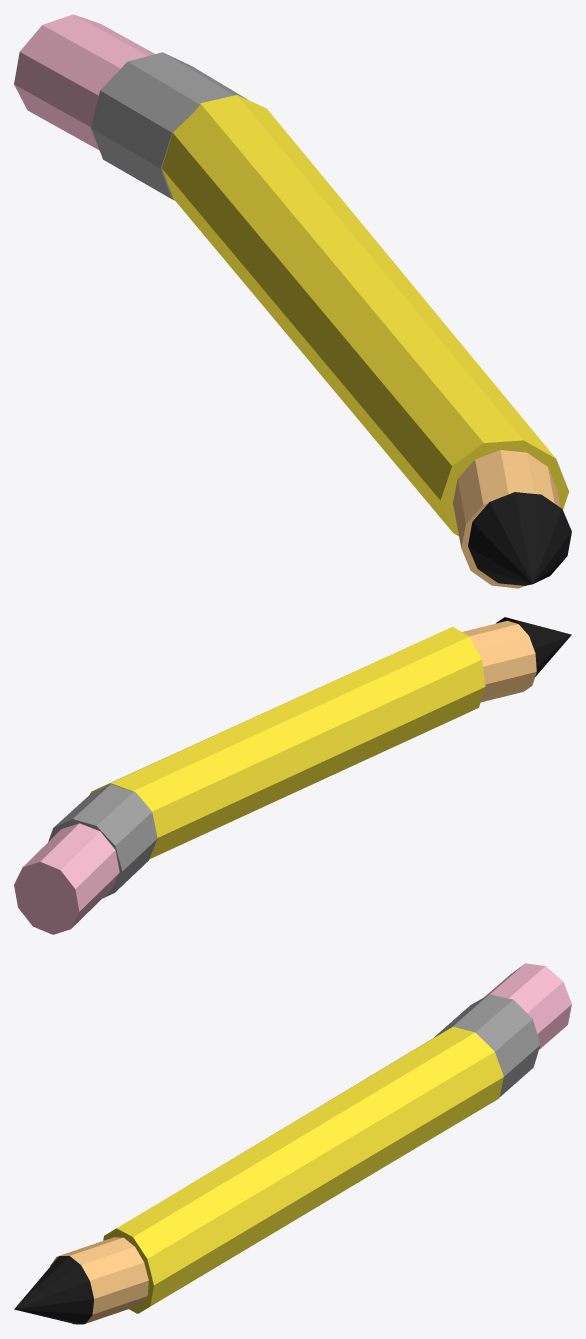
The model's file is pencil.fbx.
The picture shows the model from 3 angles, top to bottom: view 1: azimuth 30°, elevation 25°; view 2: azimuth 150°, elevation 25°; view 3: azimuth 330°, elevation 25°; orthographic projection. The views are drawn at different scales.
Visible parts, largest first — view 1: group_748217717, group_649866447, group_1645869376, mesh_1722161289, mesh_663012913; view 2: group_748217717, group_1645869376, group_649866447, mesh_663012913, mesh_1722161289; view 3: group_748217717, group_649866447, mesh_663012913, group_1645869376, mesh_1722161289.
Part boxes in pixels (box(x1,y1,x2,y2)): group_748217717: box(162, 95, 569, 536); group_649866447: box(91, 52, 247, 200); group_1645869376: box(14, 14, 154, 150); mesh_1722161289: box(468, 492, 571, 585); mesh_663012913: box(453, 450, 560, 588); group_748217717: box(90, 626, 485, 859); group_1645869376: box(14, 823, 119, 934); group_649866447: box(48, 784, 157, 898); mesh_663012913: box(462, 620, 536, 702); mesh_1722161289: box(496, 617, 571, 676); group_748217717: box(103, 1026, 503, 1313); group_649866447: box(434, 994, 540, 1097); mesh_663012913: box(50, 1237, 148, 1324); group_1645869376: box(485, 963, 571, 1049); mesh_1722161289: box(14, 1256, 93, 1323).
Size of the model in its own units: 33.68 by 20.03 by 152.
